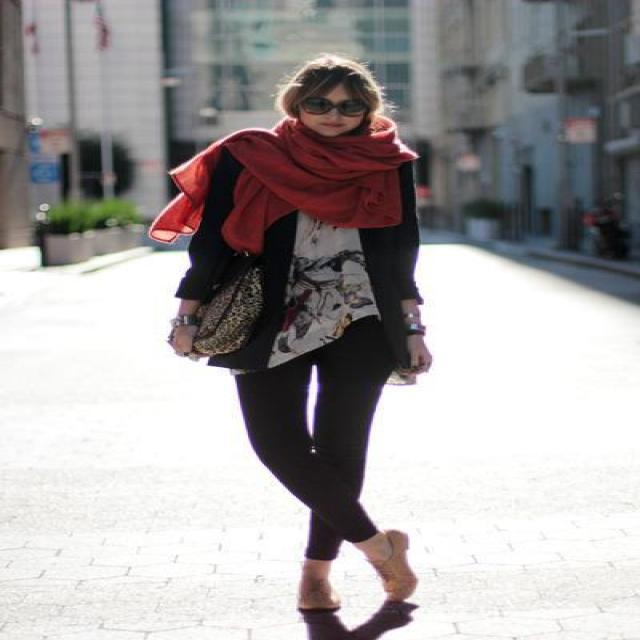bag: (187, 294, 261, 365)
jacket: (176, 147, 429, 380)
pants: (237, 321, 400, 560)
shirt: (250, 219, 378, 367)
shoe: (298, 562, 416, 616)
sunglass: (284, 86, 378, 127)
